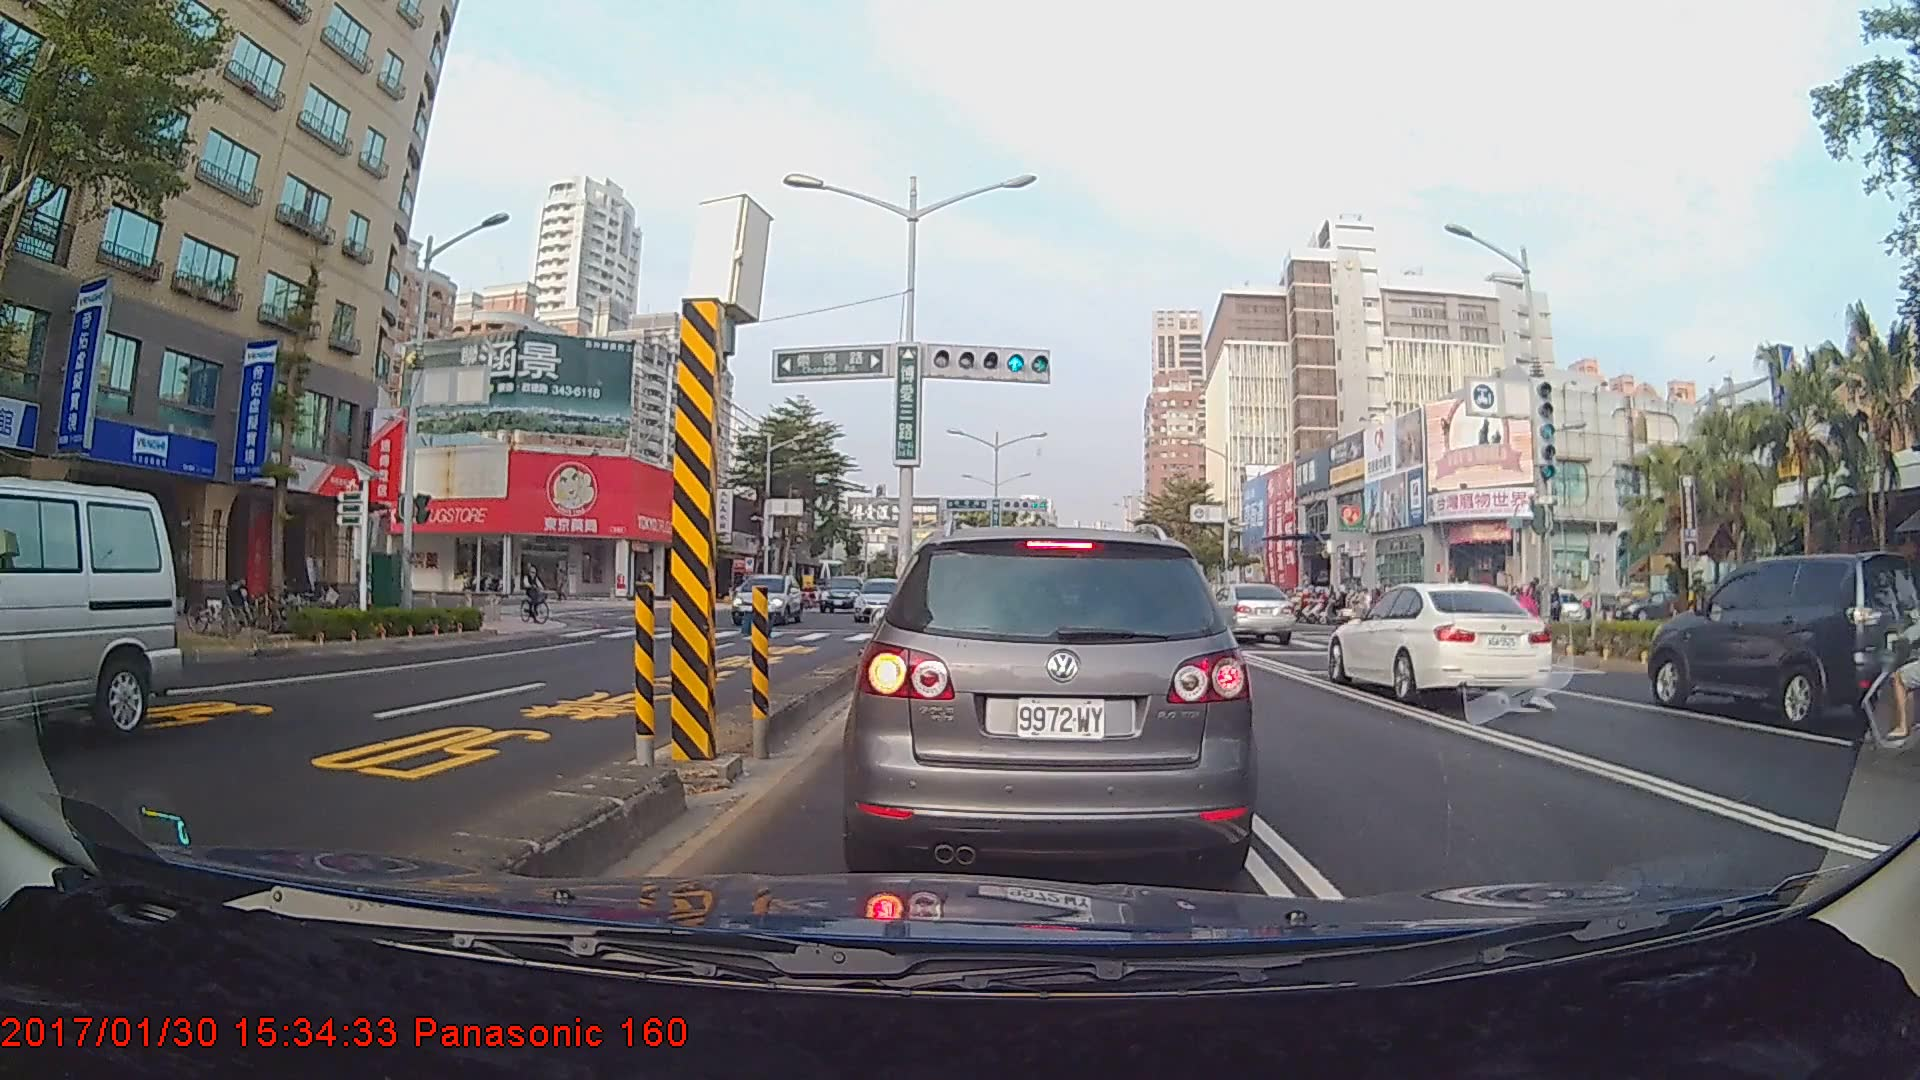rider: (1839, 553, 1918, 767), (518, 559, 561, 629)
vehicle: (856, 522, 1250, 875), (0, 473, 181, 755), (1647, 552, 1919, 730), (1321, 580, 1554, 707), (1198, 580, 1296, 644), (729, 572, 804, 625), (853, 575, 913, 622), (820, 575, 863, 613)
